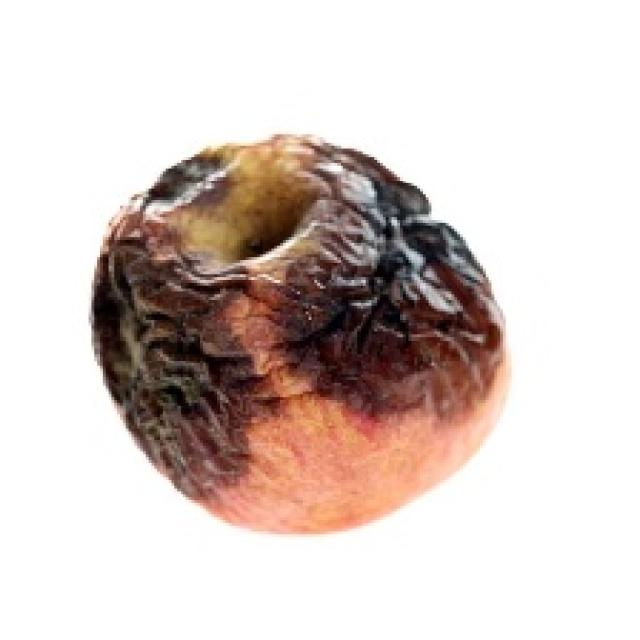rotten_apple: (99, 144, 508, 528)
